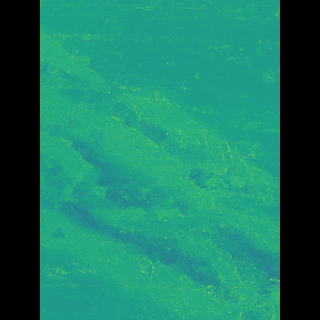Loch: (69, 23, 250, 320)
